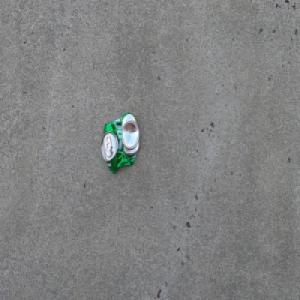SodaCan: (100, 111, 140, 174)
